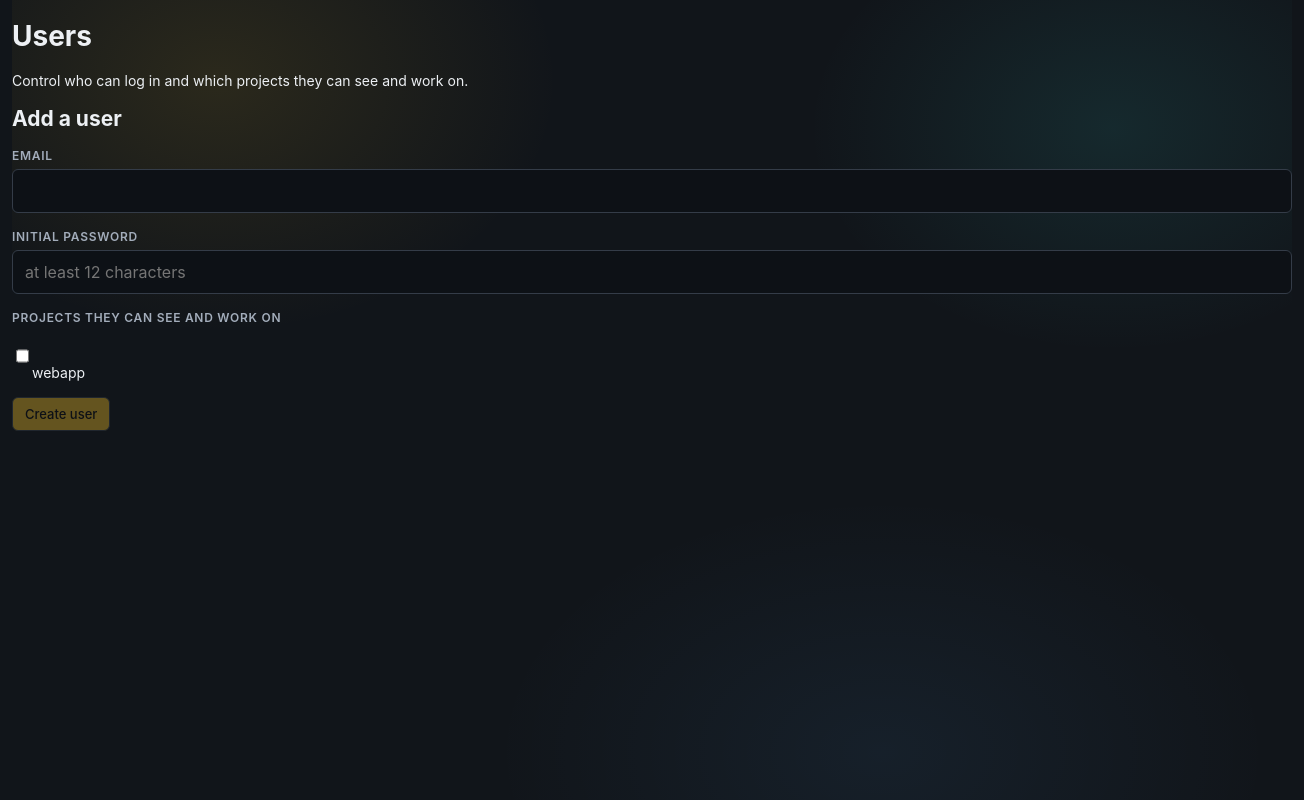
Test case: UsersPanel › confirms creation without echoing the password back into the page
Type "new@x.test" into the field labelled "Email".
click(652, 191); type("new@x.test")  # box [12,169,1292,213]
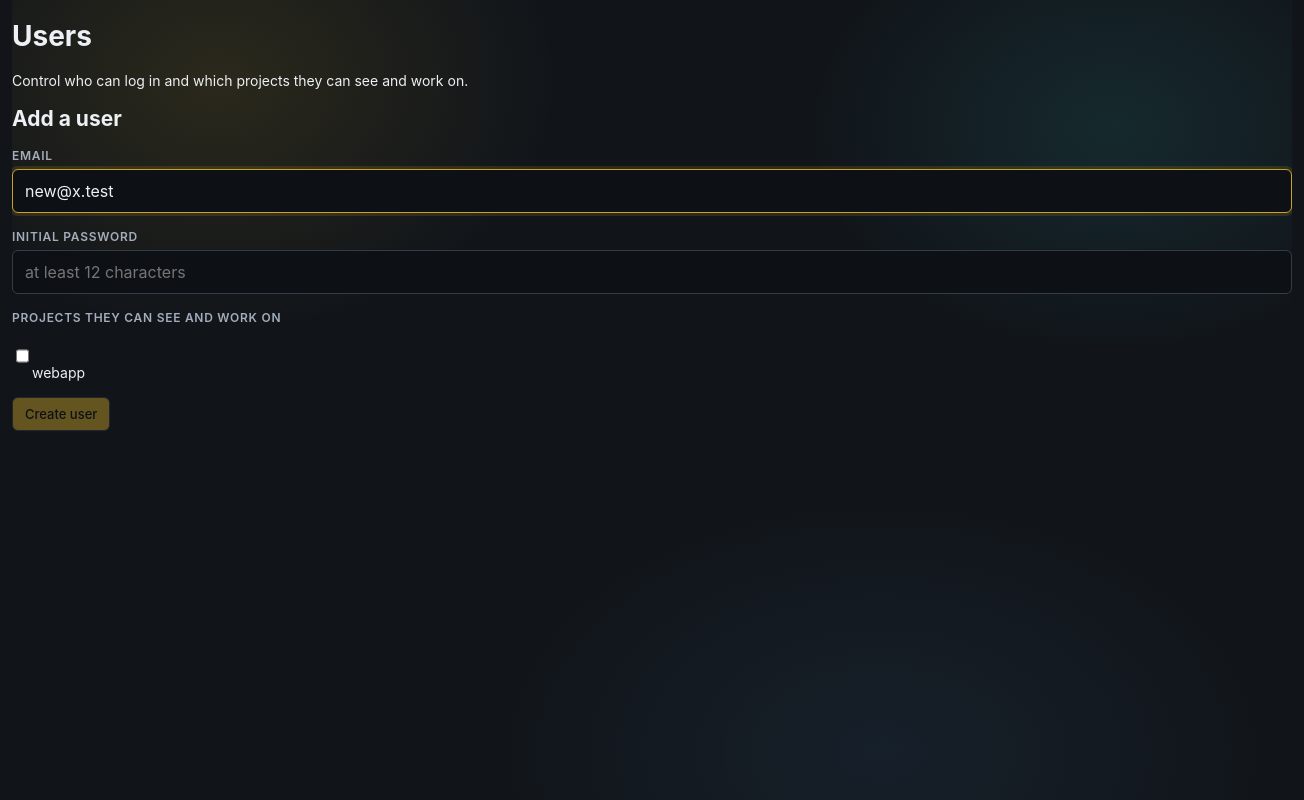
Type "Passw0rdPassw0rd" into the field with placeholder "at least 12 characters".
click(652, 272); type("Passw0rdPassw0rd")  # box [12,250,1292,294]
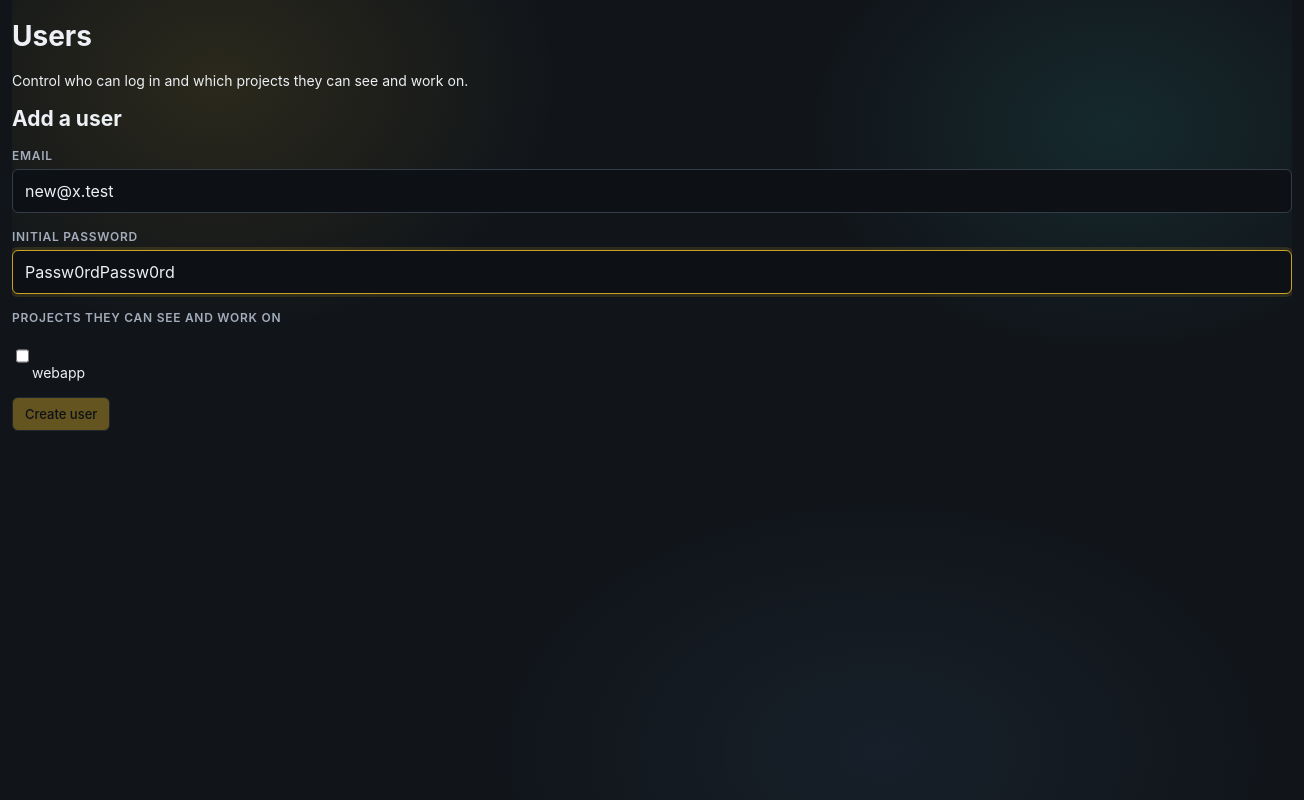
Click the checkbox labelled "webapp".
click(22, 356)  # box [16,334,29,378]
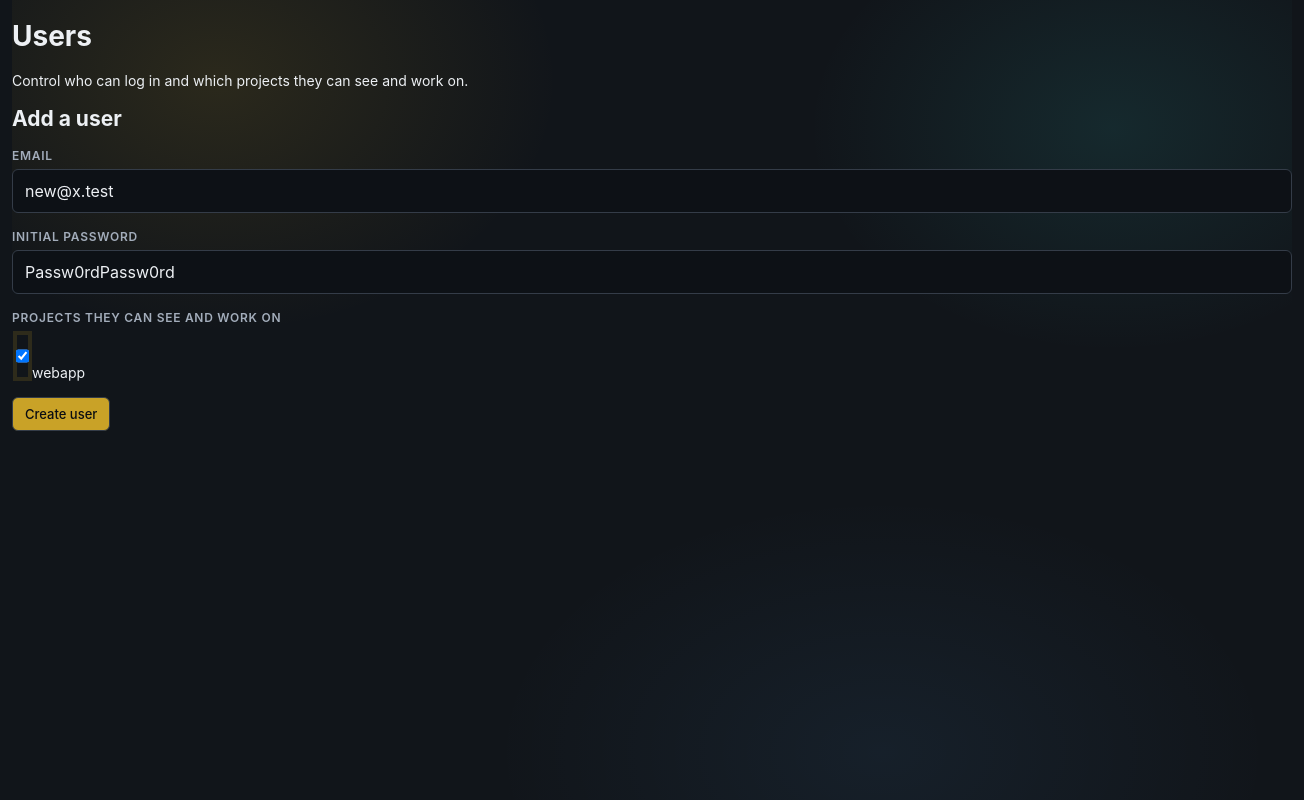
Click the button "Create user".
click(61, 414)  # box [12,397,110,431]
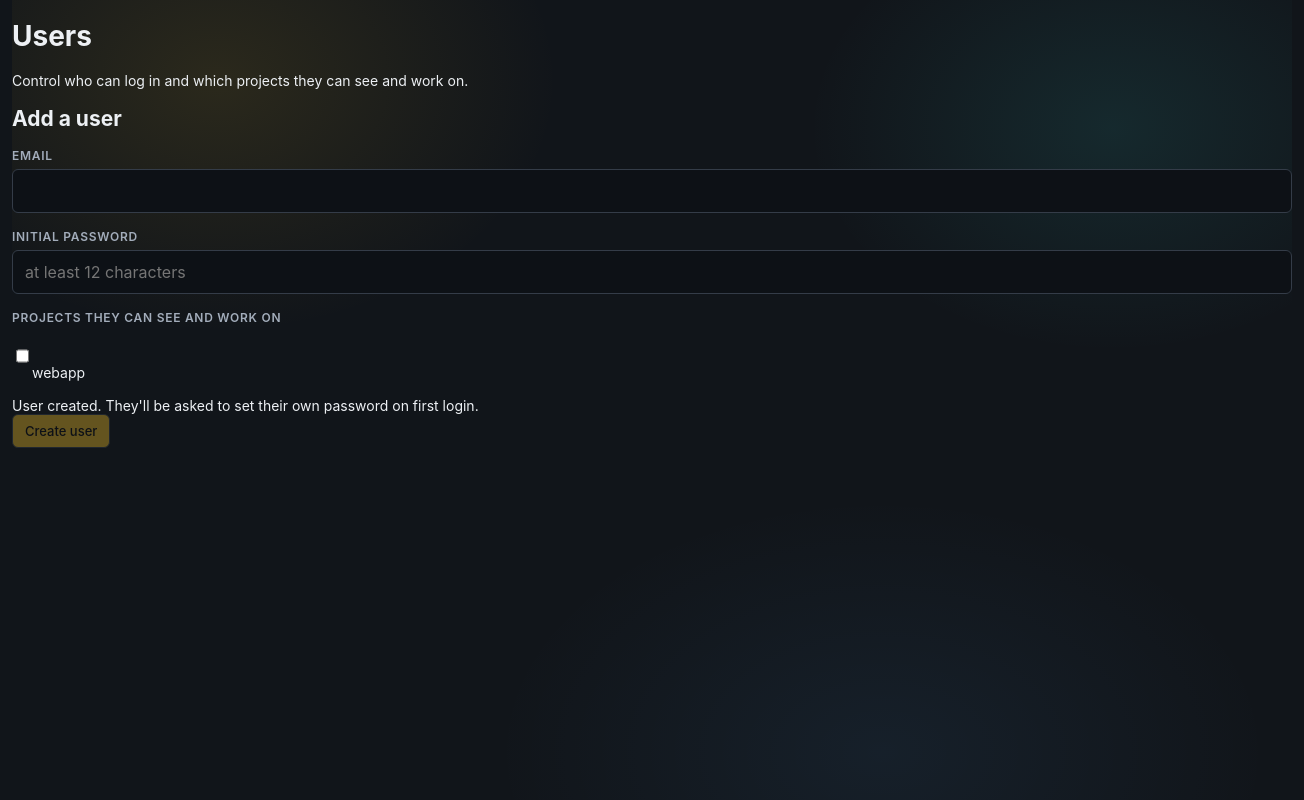
Expected: the text "Passw0rdPassw0rd" is not shown
Result: the text "set their own password on first login" is shown at [12,397,479,414]
